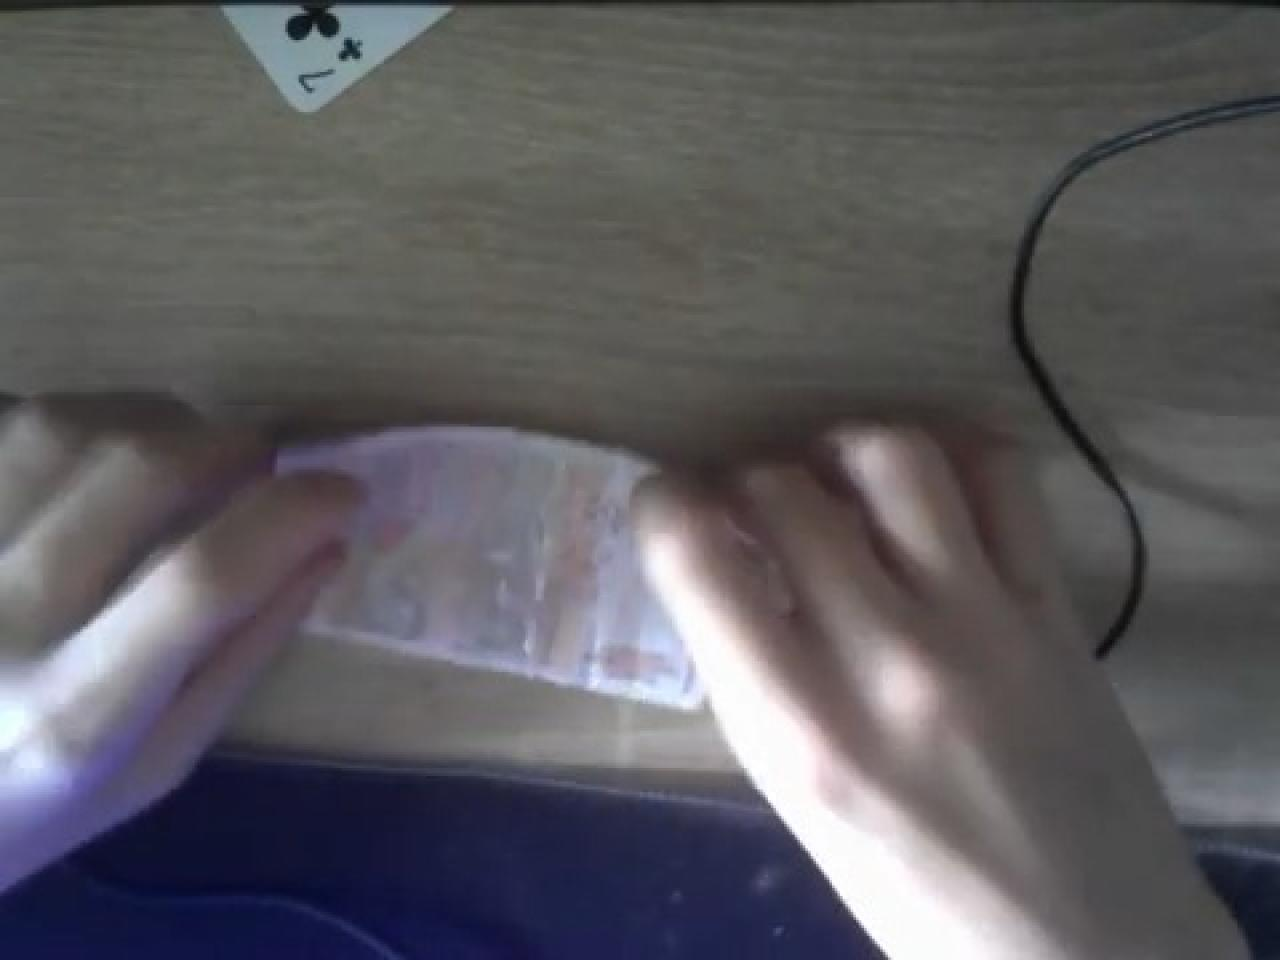5leva: (277, 418, 703, 709)
